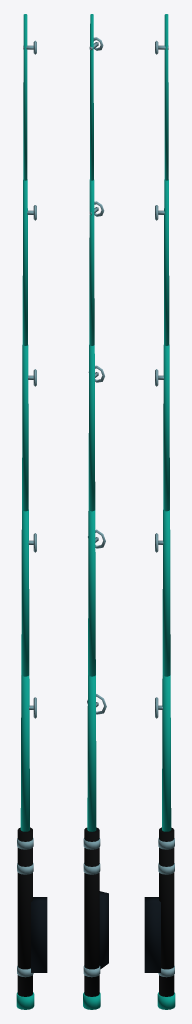
The model's file is light_rod.glb.
3 renders of one model, left to right at view 1: azimuth 90°, elevation 25°; view 2: azimuth 150°, elevation 25°; view 3: azimuth 270°, elevation 25°, orthographic.
Visible parts, largest first — view 1: light_rod_Handle, light_rod_Segment1, light_rod_Segment2, light_rod_Segment3, light_rod_Segment4, light_rod_Segment5; view 2: light_rod_Handle, light_rod_Segment1, light_rod_Segment2, light_rod_Segment3, light_rod_Segment4, light_rod_Segment5; view 3: light_rod_Handle, light_rod_Segment1, light_rod_Segment2, light_rod_Segment3, light_rod_Segment4, light_rod_Segment5.
Boxes of the visible parts, x1,y1,x2,y2 form: light_rod_Handle: (16,827,47,1009); light_rod_Segment1: (20,675,36,831); light_rod_Segment2: (21,510,36,676); light_rod_Segment3: (22,345,36,511); light_rod_Segment4: (22,179,36,345); light_rod_Segment5: (23,14,36,180); light_rod_Handle: (83,827,108,1009); light_rod_Segment1: (87,675,106,831); light_rod_Segment2: (88,510,105,676); light_rod_Segment3: (88,345,104,511); light_rod_Segment4: (89,179,104,345); light_rod_Segment5: (89,14,103,180); light_rod_Handle: (144,827,175,1009); light_rod_Segment1: (155,675,171,831); light_rod_Segment2: (155,510,170,676); light_rod_Segment3: (155,345,169,511); light_rod_Segment4: (155,179,169,345); light_rod_Segment5: (155,14,168,180).
Size of the model in its own units: 0.042 by 1.98 by 0.0561.
1 material, 1 textured.
